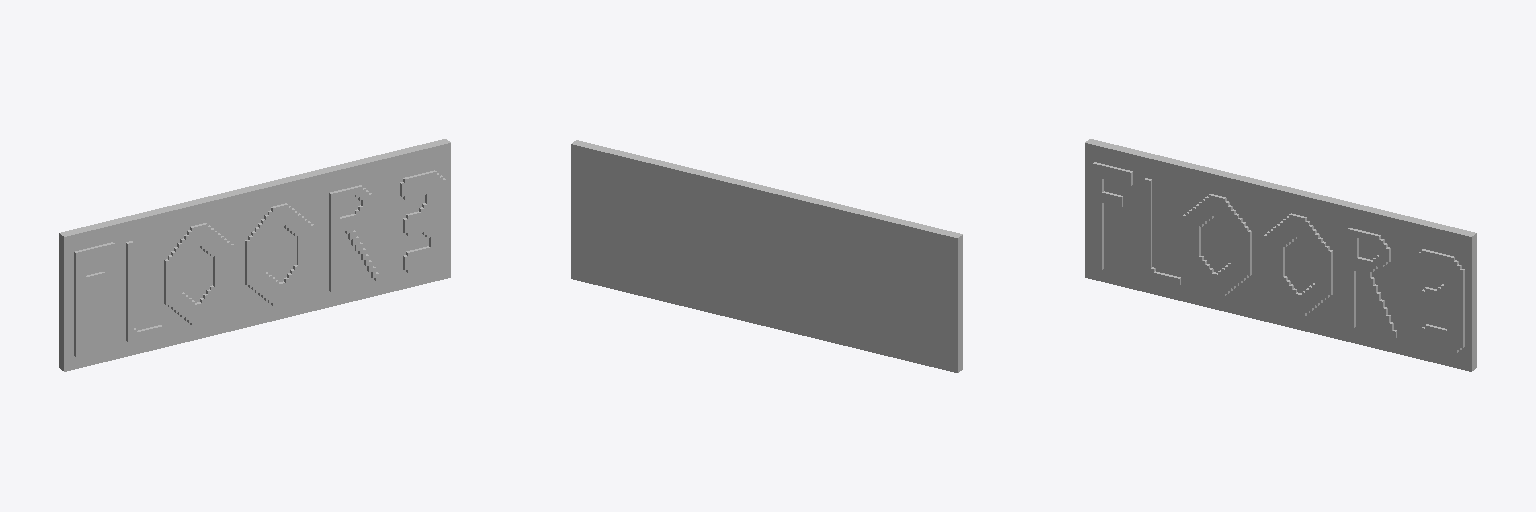
Rendered from floor 3.obj.
3 views of the same model, side by side, from view 1: azimuth 30°, elevation 25°; view 2: azimuth 150°, elevation 25°; view 3: azimuth 330°, elevation 25° (orthographic).
Parts seen in each view (by area): view 1: object 1; view 2: object 1; view 3: object 1.
Boxes of the visible parts, x1=… form: object 1: x1=59, y1=139, x2=450, y2=371; object 1: x1=571, y1=140, x2=962, y2=372; object 1: x1=1085, y1=139, x2=1476, y2=371.
Bounding box in the file's own units: 12 × 4 × 0.4.